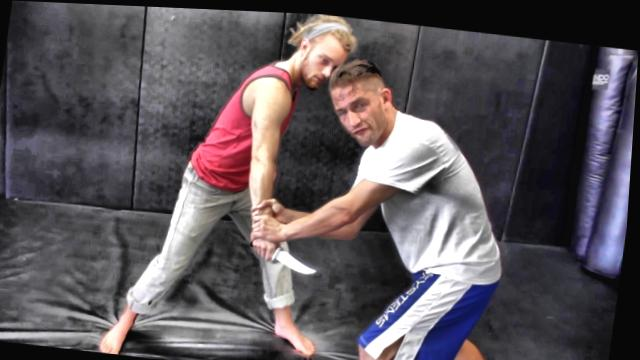knife: (246, 234, 327, 276)
